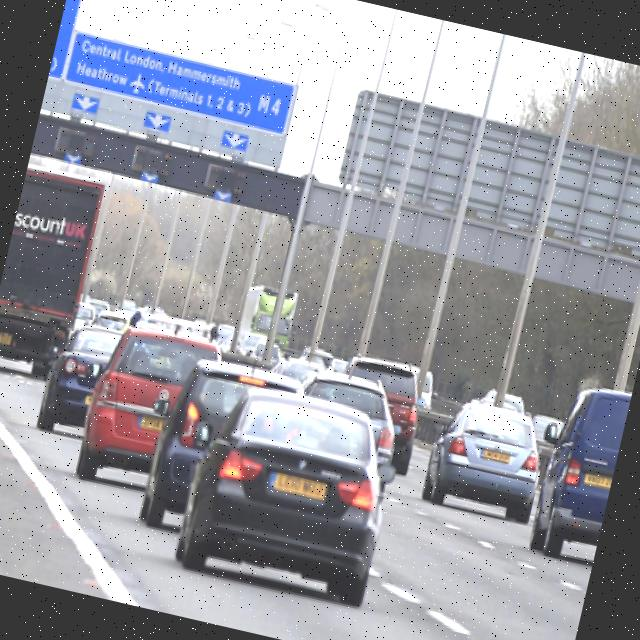Autre: (272, 461, 336, 505)
